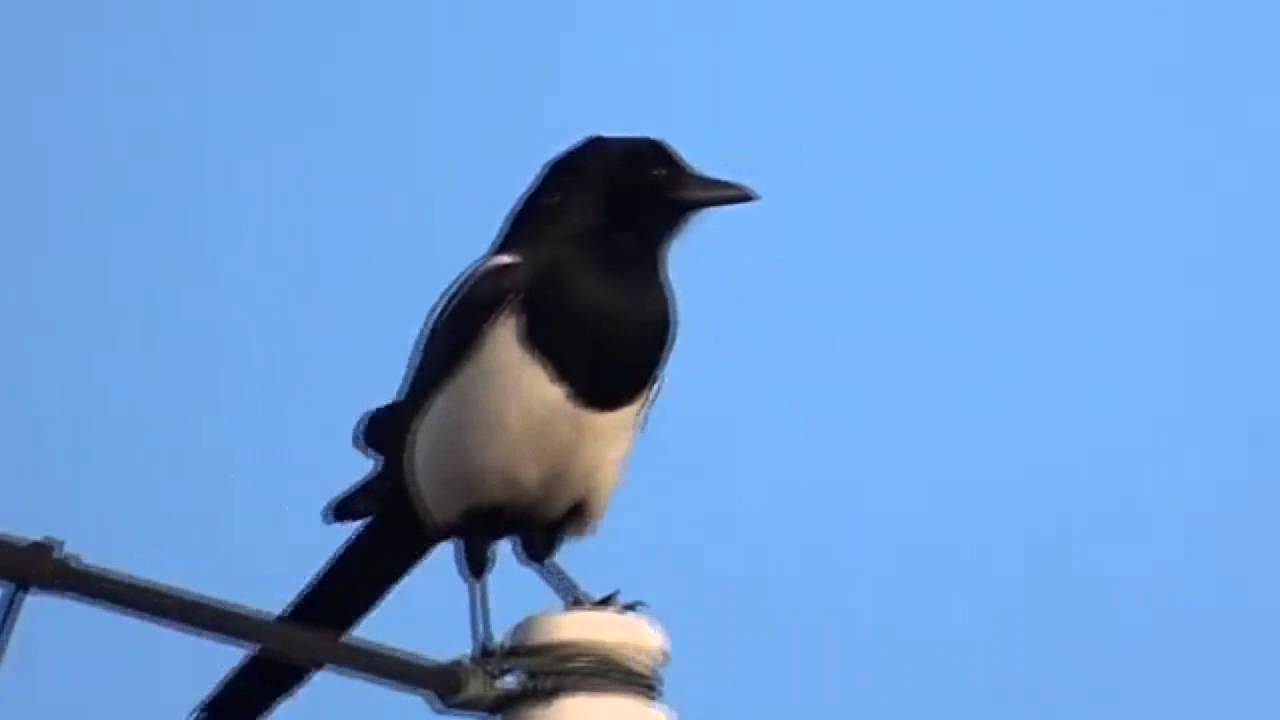magpie: (328, 117, 744, 660)
